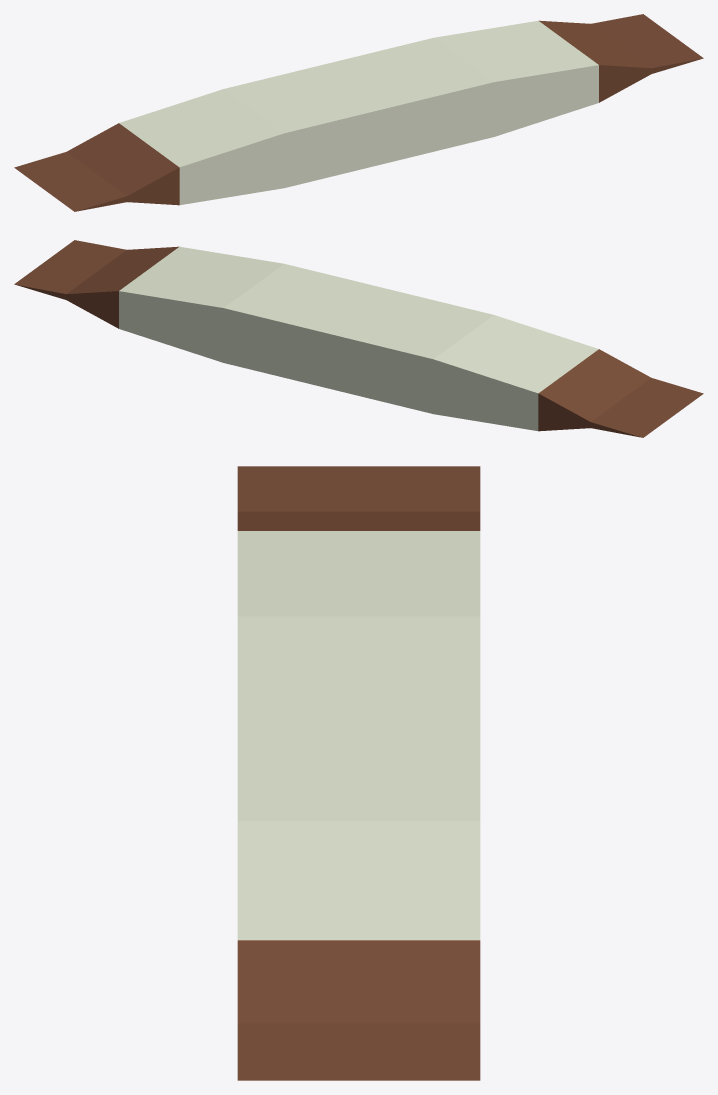
The model's file is sobre cafe.fbx.
3 views of the same model, one above another, from view 1: azimuth 30°, elevation 25°; view 2: azimuth 150°, elevation 25°; view 3: azimuth 270°, elevation 25° (orthographic). The views are drawn at different scales.
Parts seen in each view (by area): view 1: sobre cafe; view 2: sobre cafe; view 3: sobre cafe.
Part boxes in pixels (x1=…): sobre cafe: x1=14, y1=14, x2=703, y2=211; sobre cafe: x1=14, y1=240, x2=703, y2=437; sobre cafe: x1=237, y1=466, x2=480, y2=1080.
Size of the model in its own units: 12 by 2 by 1.
